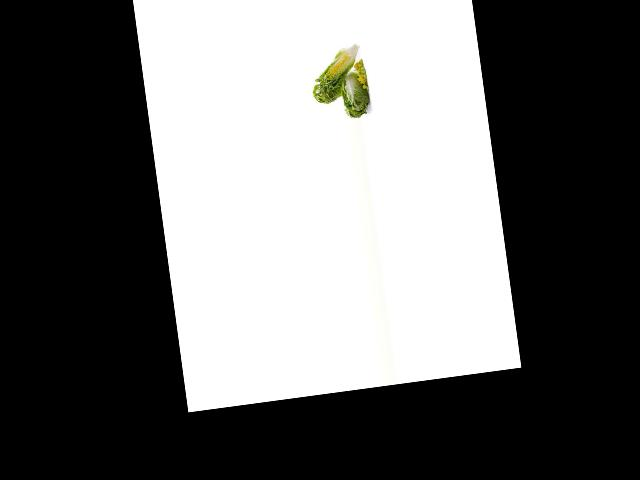lettuce: (336, 64, 373, 118)
